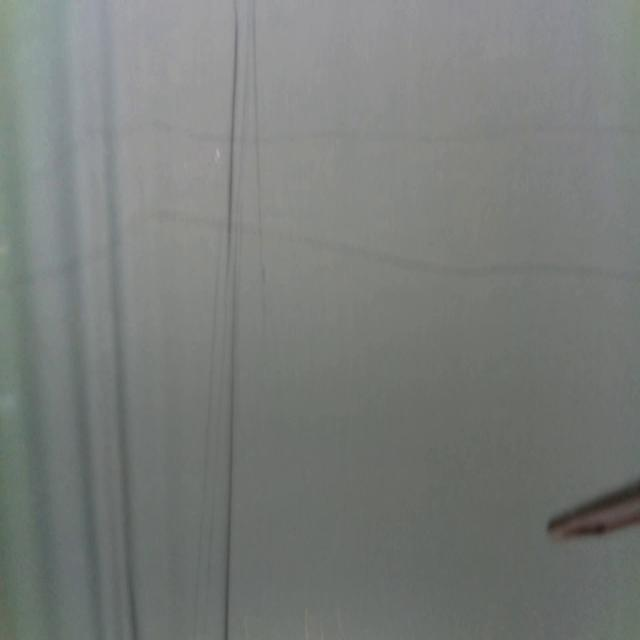color bleeding: (0, 206, 640, 299), (0, 113, 640, 198)
crease: (190, 256, 219, 636), (222, 244, 240, 640), (252, 0, 268, 336), (224, 0, 239, 279)
